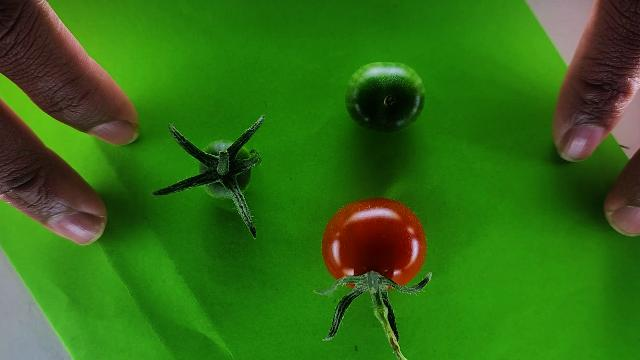Fruit Maturation: (344, 60, 426, 134), (200, 140, 253, 198)
Fully Grown: (321, 197, 428, 288)
